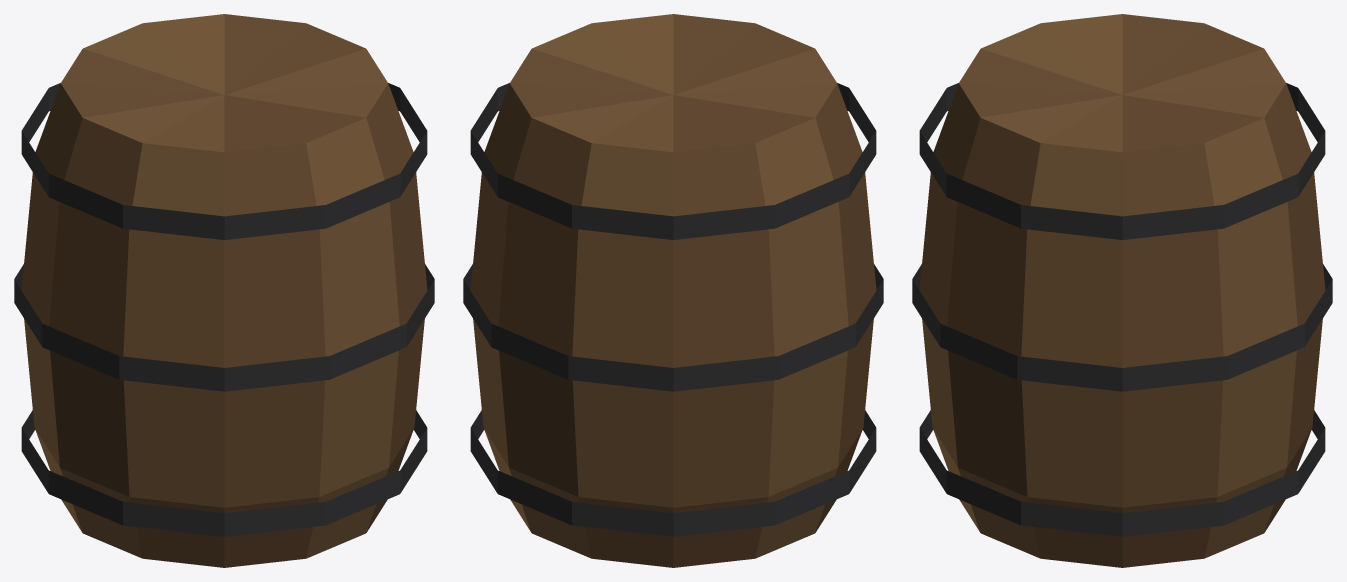
The model's file is b7_toende.glb.
3 views of the same model, side by side, from view 1: azimuth 30°, elevation 25°; view 2: azimuth 150°, elevation 25°; view 3: azimuth 270°, elevation 25° (orthographic).
Parts seen in each view (by area): view 1: B7_toende; view 2: B7_toende; view 3: B7_toende.
Boxes of the visible parts, x1=… form: B7_toende: x1=14, y1=14, x2=434, y2=567; B7_toende: x1=463, y1=14, x2=883, y2=567; B7_toende: x1=912, y1=14, x2=1332, y2=567.
Bounding box in the file's own units: 0.642 × 0.7 × 0.642.
